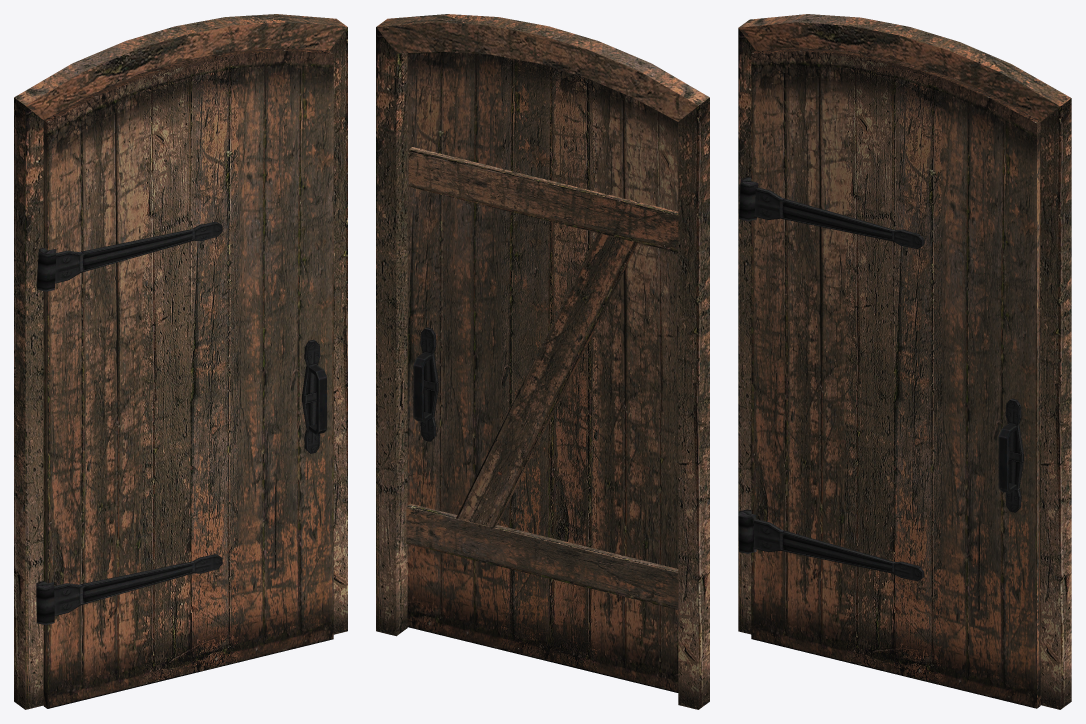
The model's file is factory_corridor_01_door.DAE.
The picture shows the model from 3 angles, left to right: view 1: azimuth 30°, elevation 25°; view 2: azimuth 150°, elevation 25°; view 3: azimuth 330°, elevation 25°; orthographic projection.
Visible parts, largest first — view 1: Box037, Box048, Box036, Box039, Object037; view 2: Box037, Box048, Box039; view 3: Box037, Box048, Box036, Box039, Object037.
Boxes of the visible parts, x1,y1,x2,y2 form: Box037: (43, 48, 333, 708); Box048: (14, 14, 347, 709); Box036: (54, 221, 222, 615); Box039: (302, 339, 326, 453); Object037: (36, 248, 56, 625); Box037: (406, 51, 678, 692); Box048: (376, 14, 709, 709); Box039: (413, 327, 438, 441); Box037: (751, 48, 1040, 708); Box048: (738, 14, 1071, 709); Box036: (754, 187, 924, 581); Box039: (998, 398, 1023, 512); Object037: (738, 177, 758, 553).
Bounding box in the file's own units: 1.84 × 3.46 × 0.2729.
